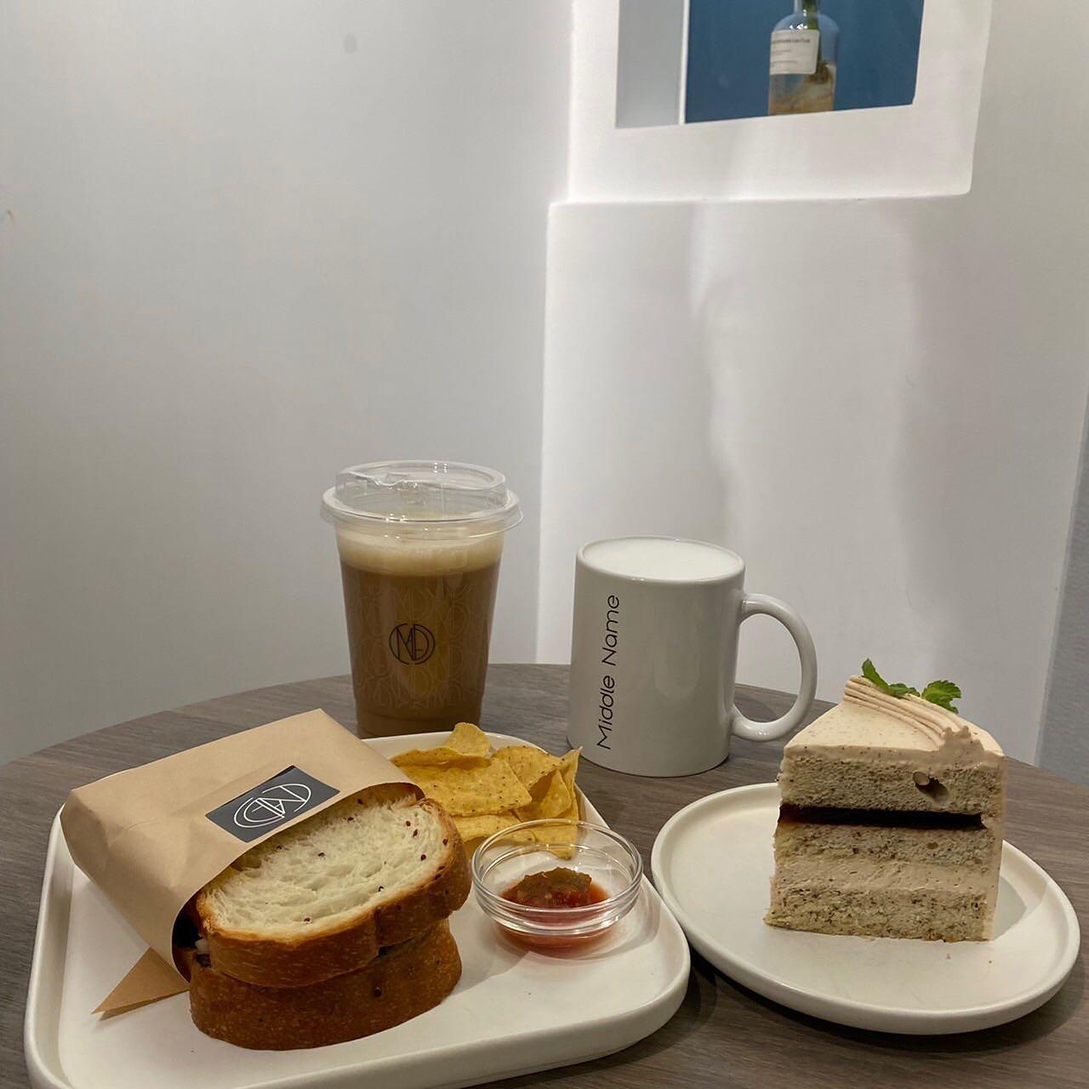cup-disposable: (321, 455, 525, 733)
cup-handle: (567, 535, 820, 781)
